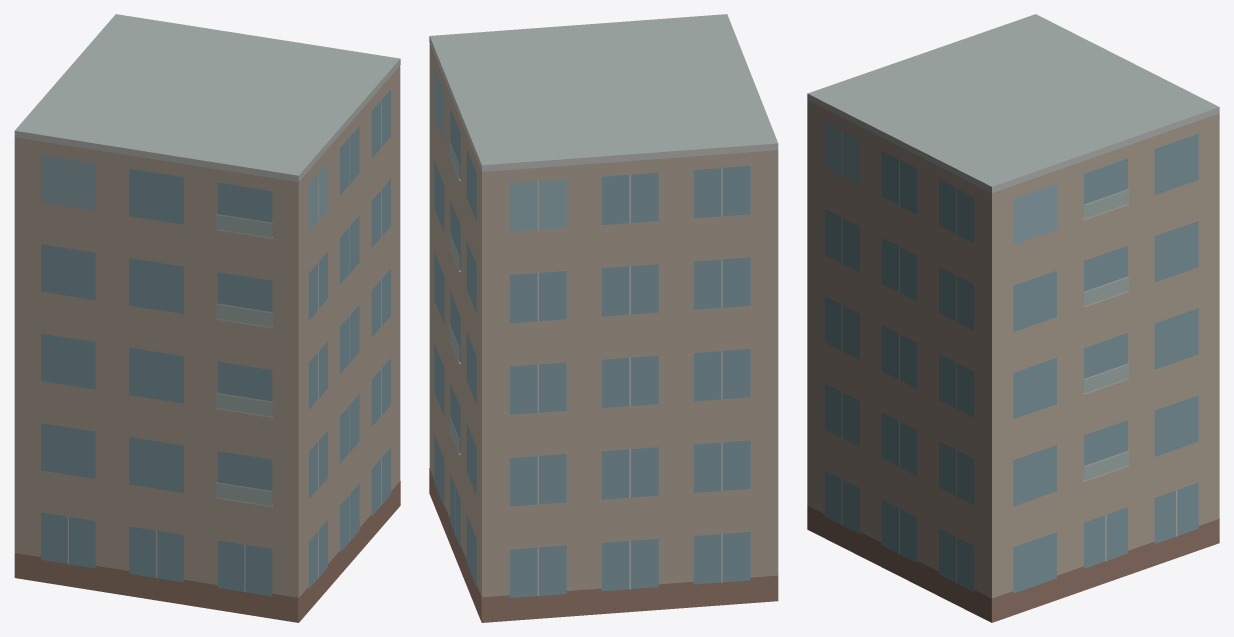
The model's file is survey-upis-32695189.glb.
The picture shows the model from 3 angles, left to right: view 1: azimuth 30°, elevation 25°; view 2: azimuth 150°, elevation 25°; view 3: azimuth 270°, elevation 25°; orthographic projection. The views are drawn at different scales.
Parts seen in each view (by area): view 1: survey-upis-32695189.tmp; view 2: survey-upis-32695189.tmp; view 3: survey-upis-32695189.tmp.
Part boxes in pixels (x1,y1,x2,y2): survey-upis-32695189.tmp: (14,14,400,622); survey-upis-32695189.tmp: (429,14,778,622); survey-upis-32695189.tmp: (807,14,1219,622).
Bounding box in the file's own units: 14.25 × 16.75 × 14.36.
